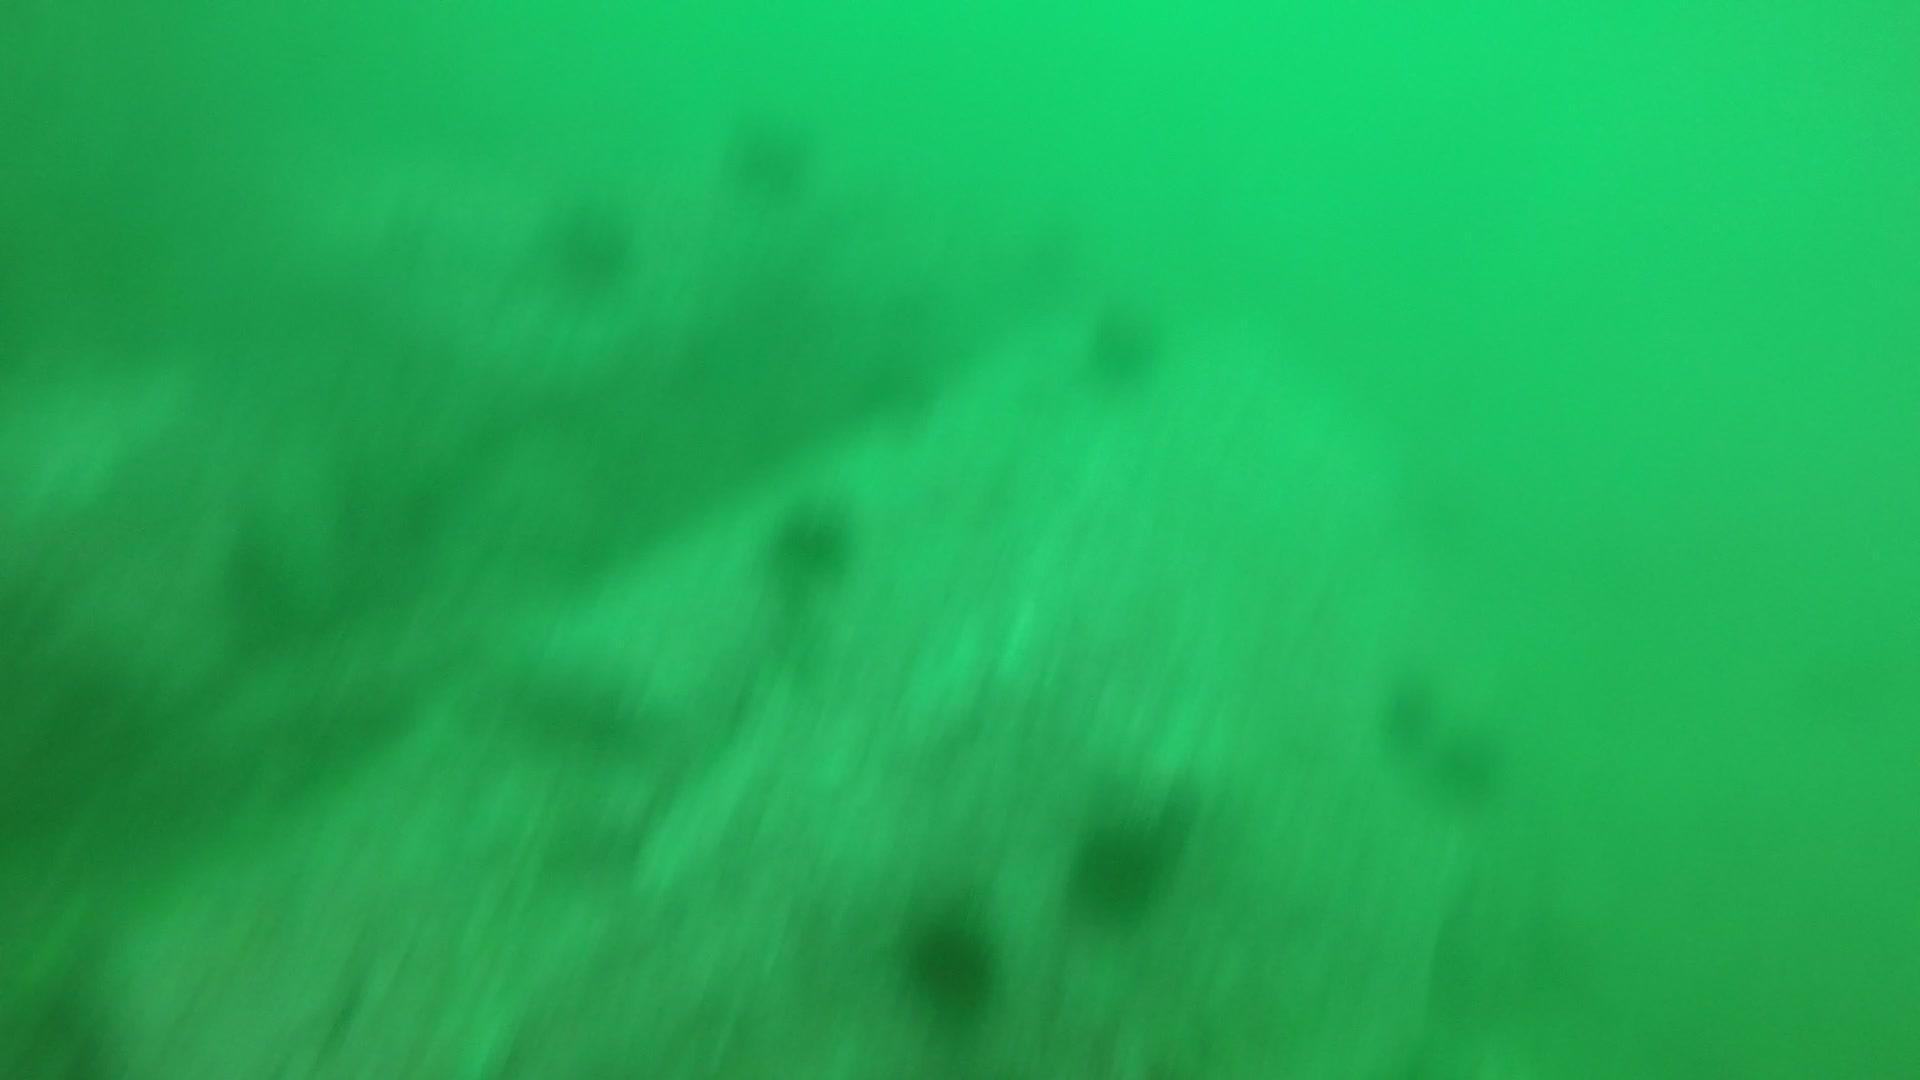echinus: (1062, 806, 1182, 926), (894, 901, 1005, 1018), (539, 190, 641, 293), (717, 105, 822, 200), (760, 492, 861, 585), (1079, 295, 1170, 389), (1425, 717, 1511, 806), (1373, 663, 1445, 748)
